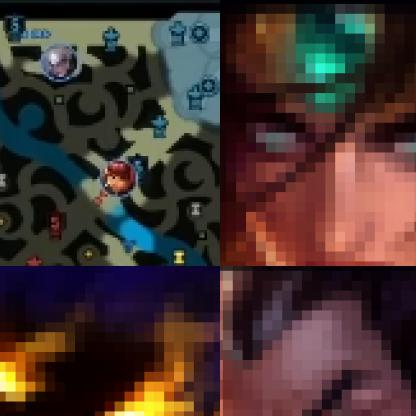Annie: (99, 159, 139, 197)
Darius: (220, 266, 415, 415)
Diana: (40, 44, 80, 82)
Sivir: (220, 0, 415, 265)
Veigar: (0, 266, 219, 415)
